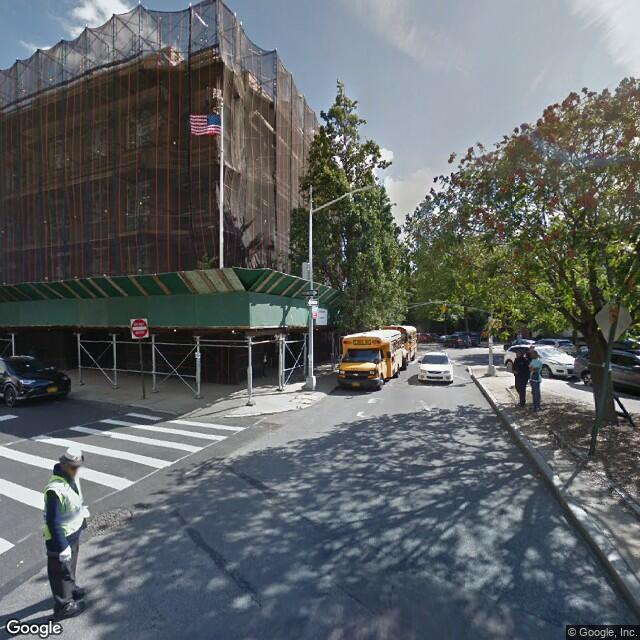litter: (15, 561, 29, 568)
